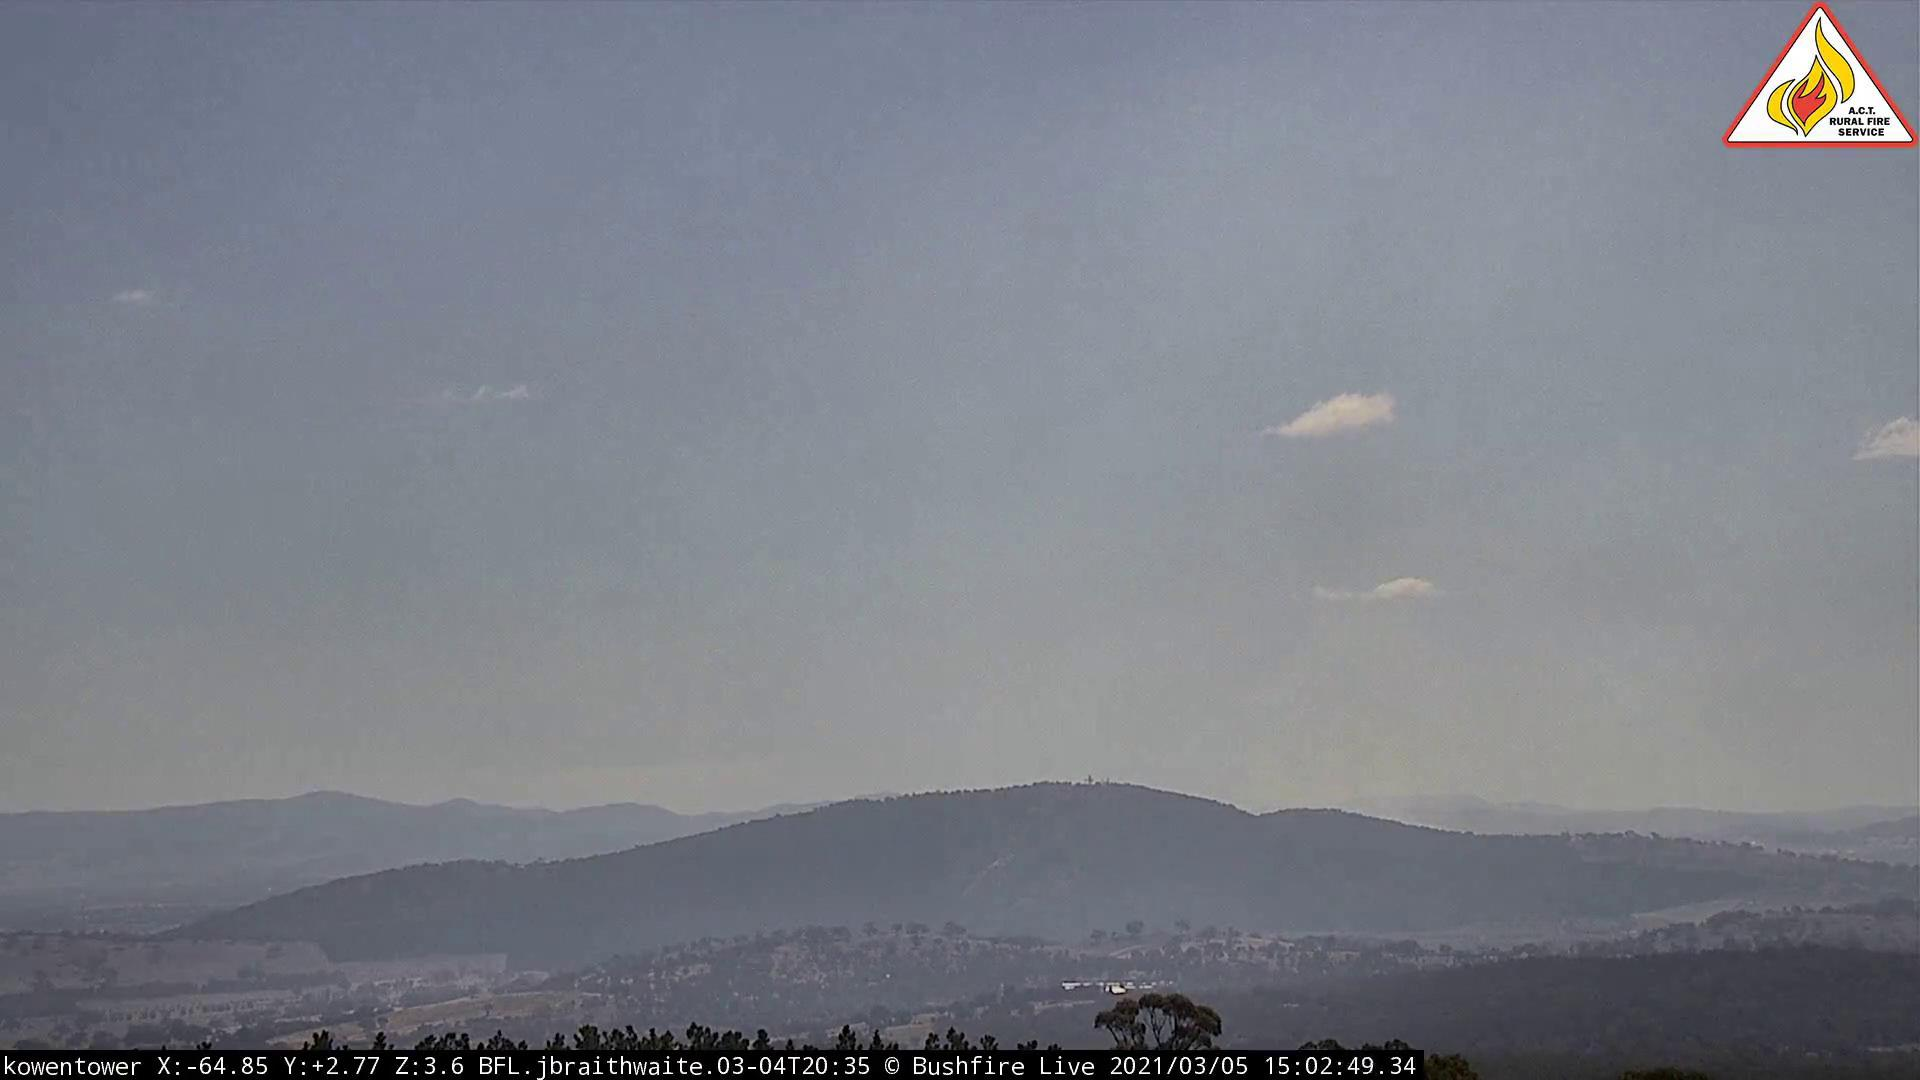Smoke: (1116, 526, 1884, 843)
